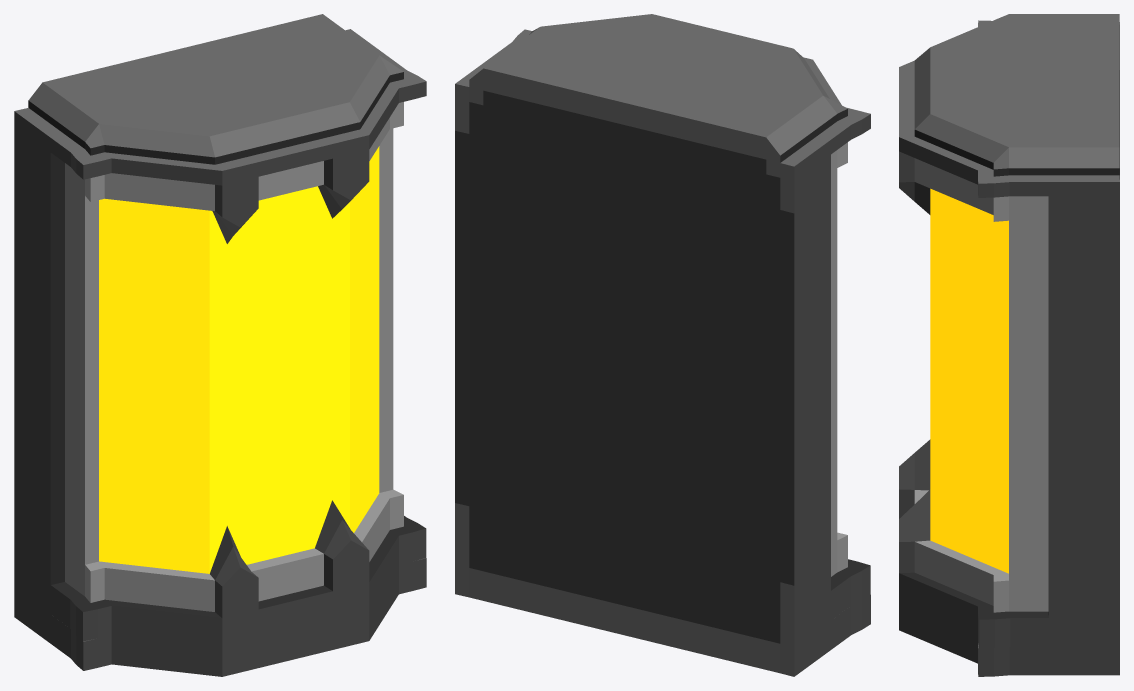
Rendered from SpecimenTank&Rack.fbx.
3 views of the same model, side by side, from view 1: azimuth 30°, elevation 25°; view 2: azimuth 150°, elevation 25°; view 3: azimuth 270°, elevation 25° (orthographic). The views are drawn at different scales.
Visible parts, largest first — view 1: SpecimenTank&Rack; view 2: SpecimenTank&Rack; view 3: SpecimenTank&Rack.
Boxes of the visible parts, box(x1,y1,x2,y2) form: SpecimenTank&Rack: box(14, 14, 426, 676); SpecimenTank&Rack: box(455, 14, 870, 676); SpecimenTank&Rack: box(899, 14, 1119, 676).
Bounding box in the file's own units: 245 × 360 × 140.
